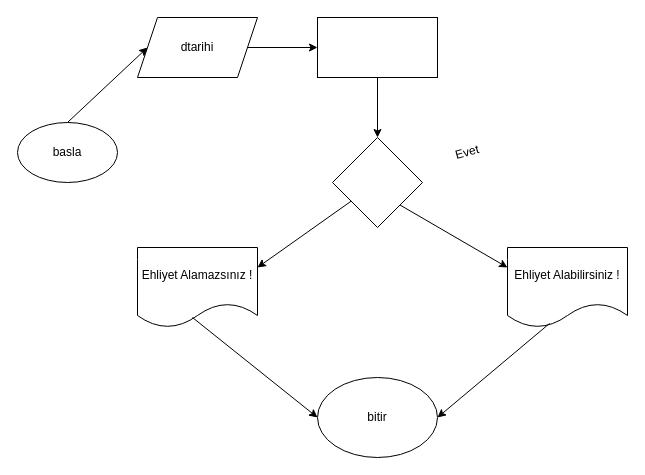
This 645x475 diagram has some shape labels left out. The box of each missing label's shape, as (x1, y1, x2, y2) in pixels:
yas = 2022 - dtarihi: (316, 16, 438, 78)
yas >=18: (332, 136, 422, 228)
